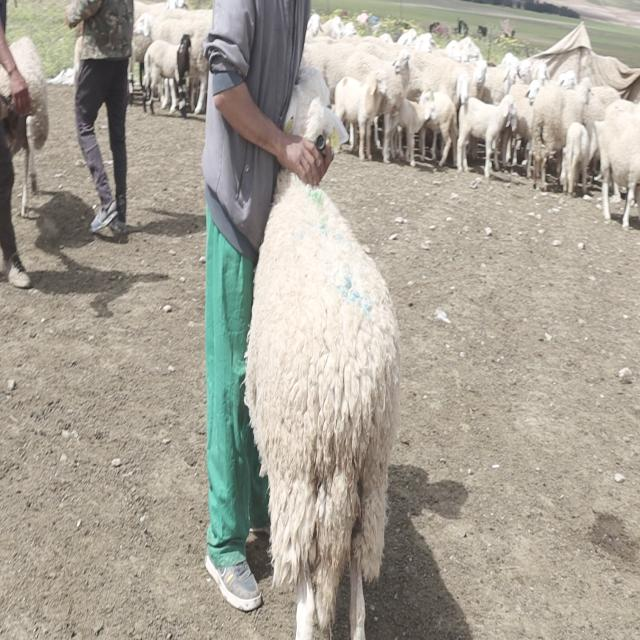Score_2: (245, 171, 400, 639)
